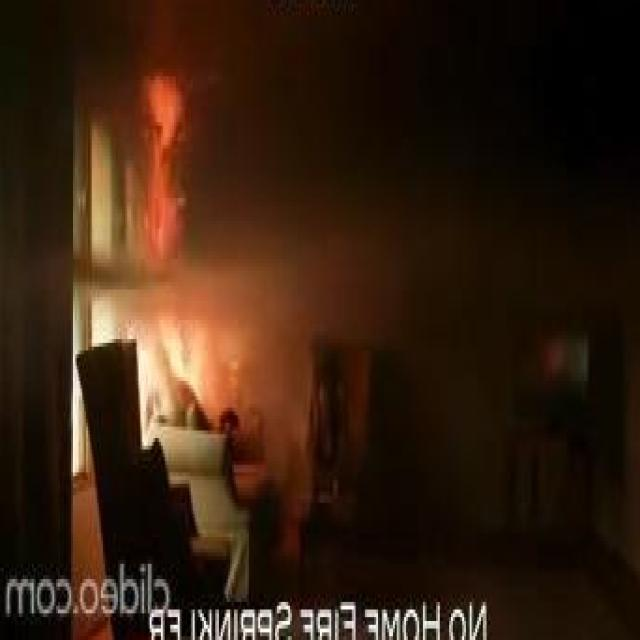smoke: (140, 72, 191, 270), (155, 313, 208, 397)
